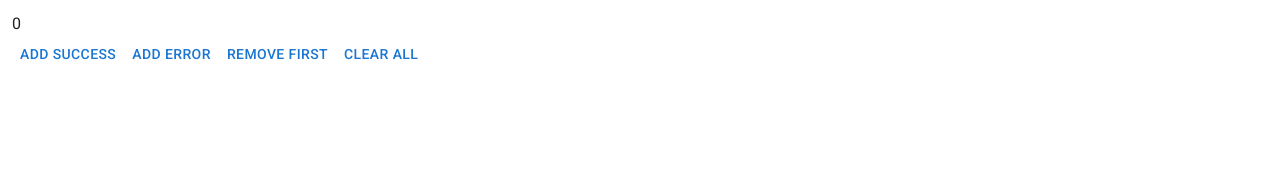
NotificationProvider › displays notifications with correct severity
Click the button "Add Error".
click(172, 54)  # box x1=124 y1=36 x2=219 y2=72
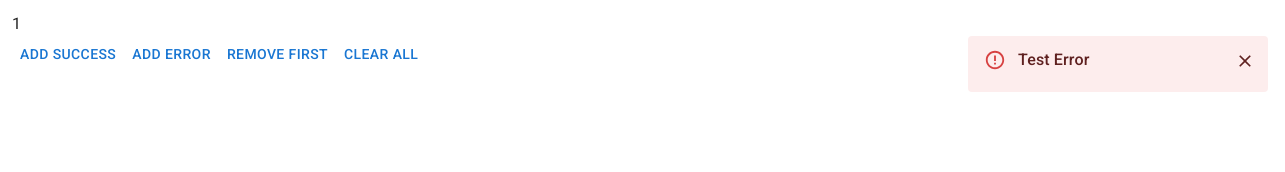
Now the text "Test Error" is shown, box x1=1018 y1=48 x2=1090 y2=72
